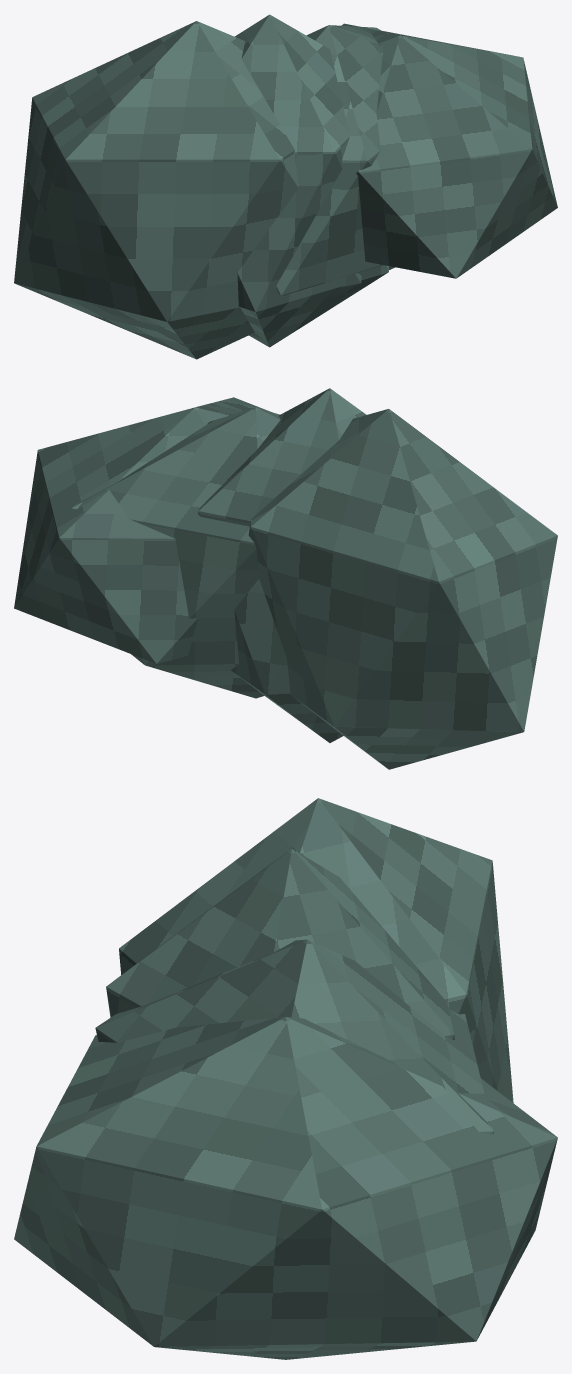
File: ruin_57.glb
3 renders of one model, top to bottom at view 1: azimuth 30°, elevation 25°; view 2: azimuth 150°, elevation 25°; view 3: azimuth 270°, elevation 25°, orthographic. The views are drawn at different scales.
Parts seen in each view (by area): view 1: WeatheredStone, WeatheredStone.003, WeatheredStone.001, WeatheredStone.002; view 2: WeatheredStone, WeatheredStone.003, WeatheredStone.002, WeatheredStone.001; view 3: WeatheredStone.003, WeatheredStone, WeatheredStone.002, WeatheredStone.001.
Boxes of the visible parts, left/top/right/bottom form: WeatheredStone: left=14, top=21, right=361, bottom=359; WeatheredStone.003: left=341, top=23, right=557, bottom=278; WeatheredStone.001: left=235, top=14, right=389, bottom=347; WeatheredStone.002: left=276, top=25, right=394, bottom=295; WeatheredStone: left=248, top=409, right=557, bottom=769; WeatheredStone.003: left=14, top=397, right=270, bottom=663; WeatheredStone.002: left=71, top=407, right=280, bottom=698; WeatheredStone.001: left=198, top=388, right=366, bottom=742; WeatheredStone.003: left=14, top=1017, right=557, bottom=1359; WeatheredStone: left=119, top=798, right=513, bottom=1102; WeatheredStone.002: left=95, top=939, right=493, bottom=1134; WeatheredStone.001: left=106, top=848, right=454, bottom=1039.
Size of the model in its own units: 3.38 by 2.27 by 2.23.
Materials: 1 (1 with a texture image).
